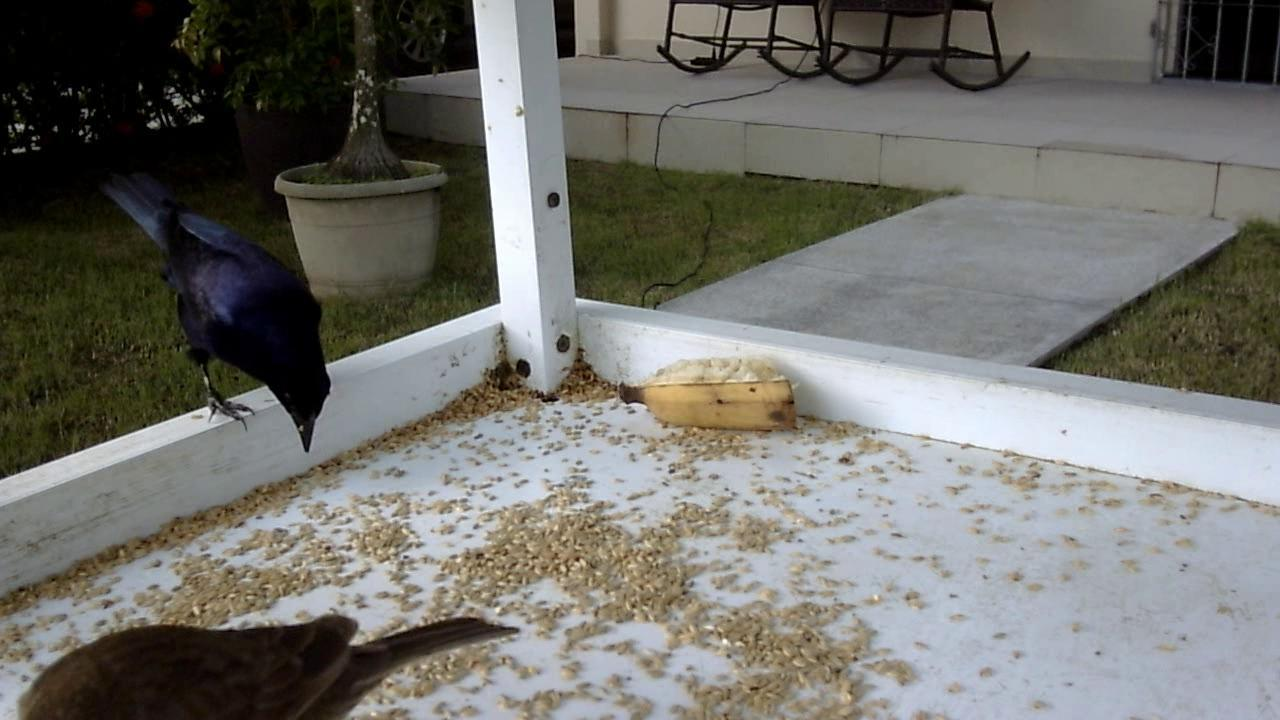chupim: (4, 554, 537, 718), (97, 167, 335, 467)
